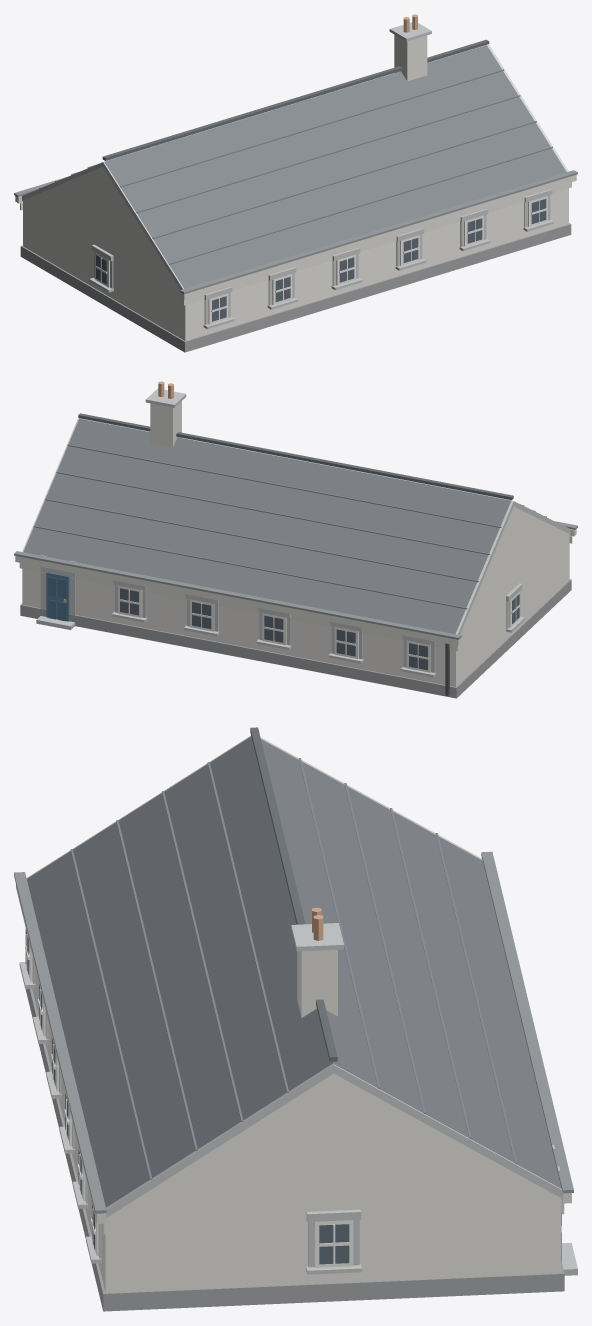
3 views of the same model, one above another, from view 1: azimuth 30°, elevation 25°; view 2: azimuth 150°, elevation 25°; view 3: azimuth 270°, elevation 25° (orthographic). The views are drawn at different scales.
Visible parts, largest first — view 1: slate, harl, plinth, stone_band, string, slate_lt, lead, frame, slate_dk, chim_render; view 2: slate, harl, plinth, stone_band, string, slate_lt, lead, slate_dk, frame, chim_render, door_blue_p, door_blue (+5 smaller); view 3: slate, harl, stone_band, plinth, lead, slate_lt, slate_dk, chim_render, frame, window_glass_013, string.
Boxes of the visible parts, box(x1,y1,x2,y2) form: slate: box(104, 45, 566, 288); harl: box(23, 167, 568, 340); plinth: box(20, 223, 571, 352); stone_band: box(22, 22, 568, 329); string: box(15, 175, 576, 305); slate_lt: box(39, 69, 552, 264); lead: box(14, 170, 577, 294); frame: box(95, 196, 547, 324); slate_dk: box(102, 39, 489, 160); chim_render: box(394, 34, 427, 81); slate: box(23, 418, 510, 633); harl: box(22, 507, 569, 686); plinth: box(20, 579, 571, 698); stone_band: box(22, 388, 570, 677); string: box(15, 529, 576, 651); slate_lt: box(33, 444, 558, 609); lead: box(14, 521, 577, 639); slate_dk: box(78, 413, 513, 500); frame: box(118, 585, 519, 672); chim_render: box(150, 401, 181, 447); door_blue_p: box(48, 577, 66, 621); door_blue: box(46, 572, 69, 621); slate: box(27, 737, 561, 1207); harl: box(32, 969, 561, 1292); stone_band: box(19, 736, 577, 1275); plinth: box(25, 989, 564, 1311); lead: box(14, 851, 573, 1213); slate_lt: box(70, 758, 517, 1179); slate_dk: box(250, 727, 337, 1061); chim_render: box(297, 949, 337, 1017); frame: box(25, 934, 353, 1267); window_glass_013: box(319, 1224, 349, 1264); string: box(16, 857, 571, 1234).
Bounding box in the file's own units: 19.76 × 8.23 × 13.12.
